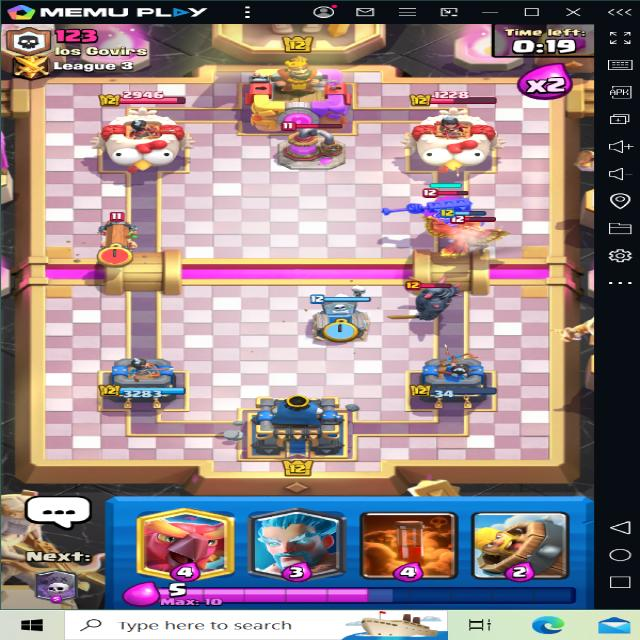Battleram: (79, 204, 145, 272)
Pekka: (396, 278, 479, 328)
Pump: (256, 126, 349, 168)
skellyking: (396, 189, 488, 234)
